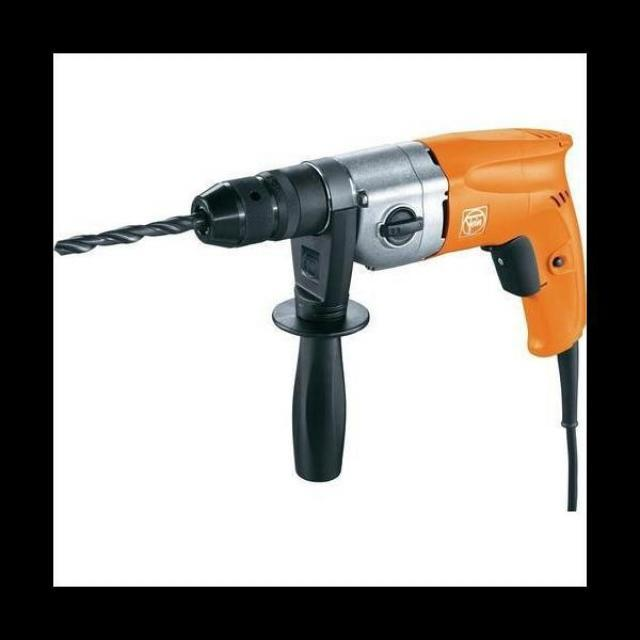drill: (54, 127, 585, 484)
